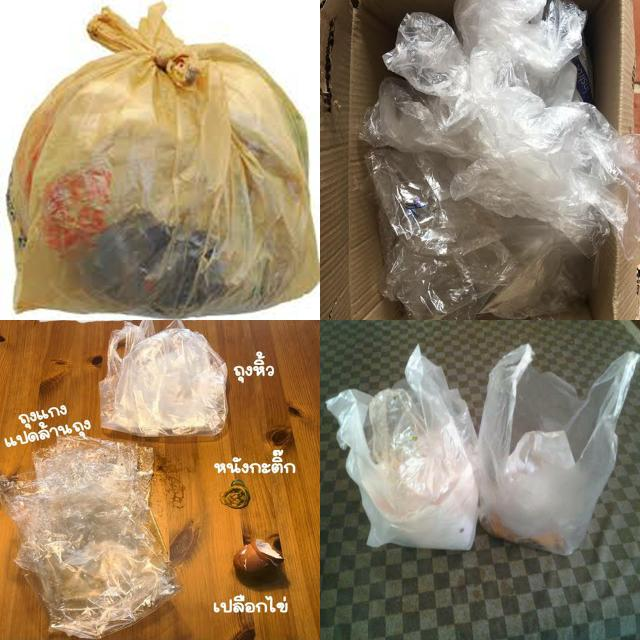Single-layer Plastic: (8, 4, 319, 318), (361, 0, 640, 262), (366, 148, 589, 319), (0, 436, 180, 639), (479, 345, 640, 555), (326, 346, 479, 550), (99, 320, 228, 436)
